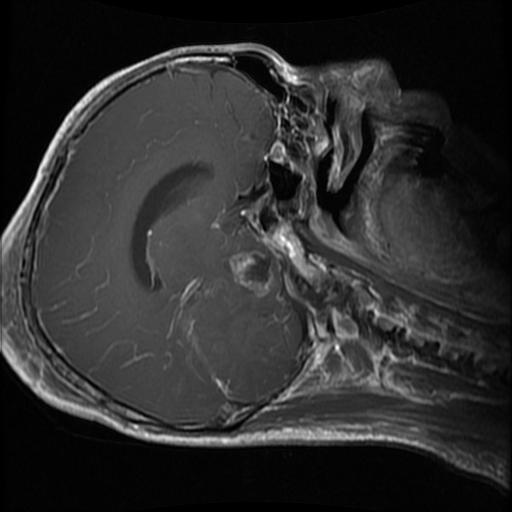glioma: (225, 251, 274, 298)
